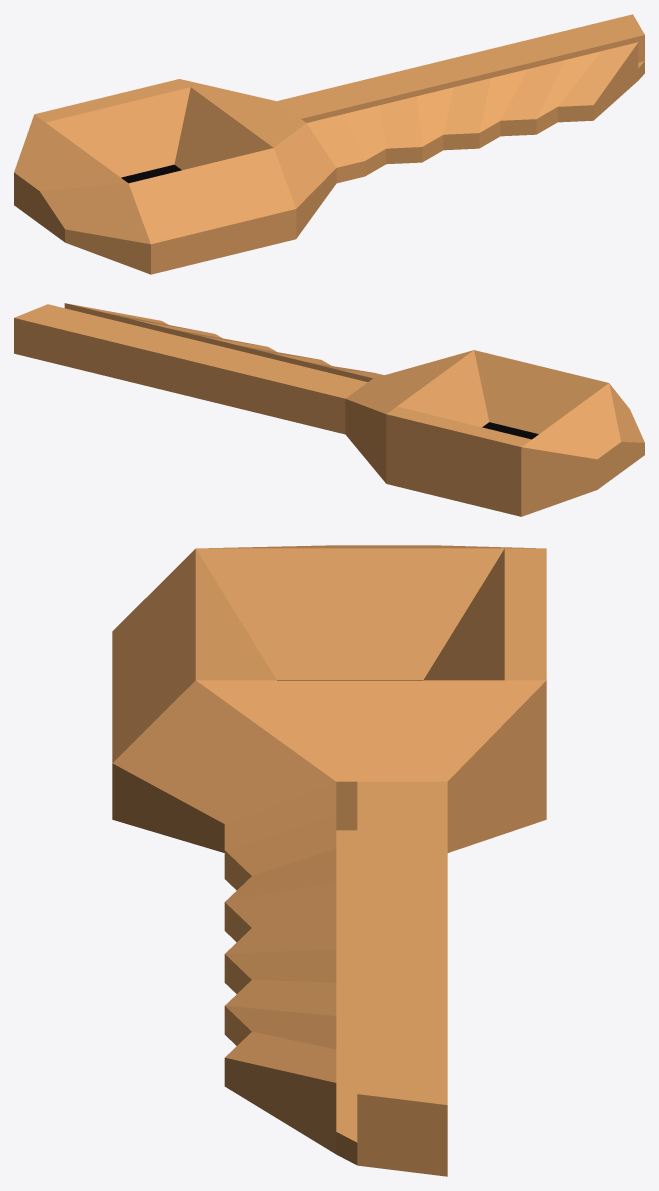
Rendered from SA_Key.fbx.
3 renders of one model, top to bottom at view 1: azimuth 30°, elevation 25°; view 2: azimuth 150°, elevation 25°; view 3: azimuth 270°, elevation 25°, orthographic. The views are drawn at different scales.
Parts seen in each view (by area): view 1: Cube.001; view 2: Cube.001; view 3: Cube.001.
Boxes of the visible parts, left/top/right/bottom form: Cube.001: left=14, top=14, right=644, bottom=274; Cube.001: left=14, top=303, right=644, bottom=516; Cube.001: left=112, top=545, right=546, bottom=1176.
Bounding box in the file's own units: 4.7 × 0.5407 × 1.53.
